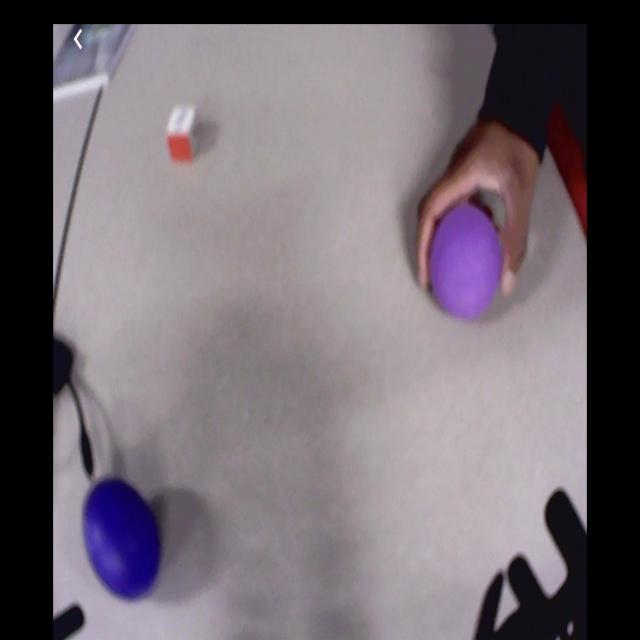ball: (80, 482, 162, 595), (430, 198, 505, 320)
